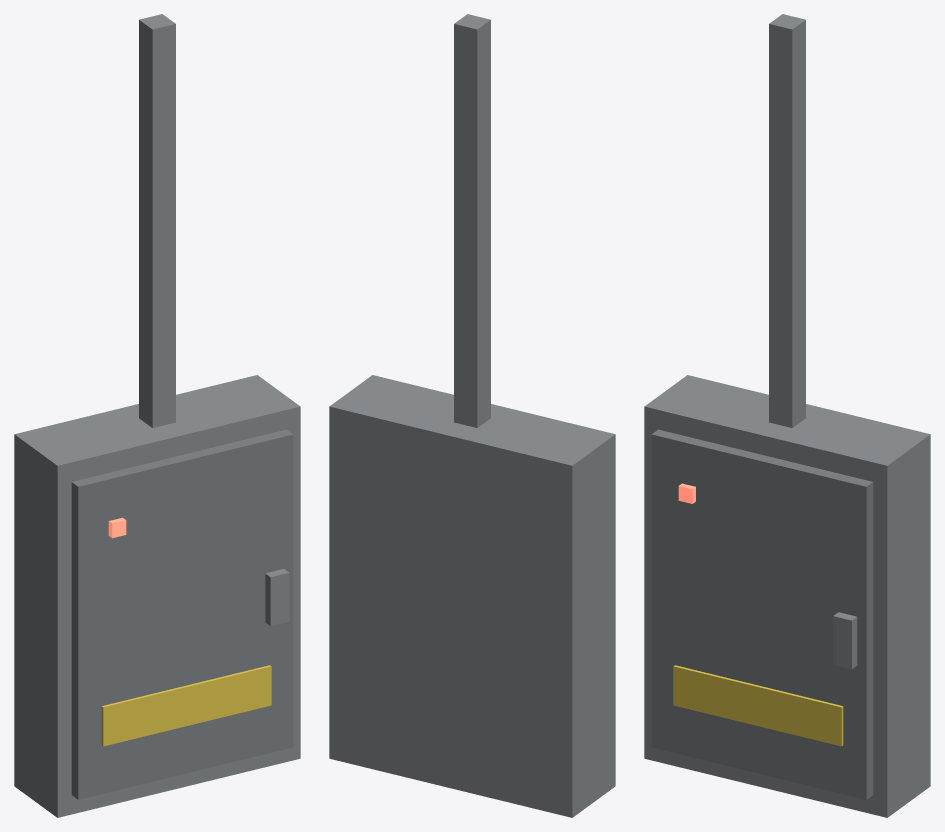
Rendered from breaker_box.glb.
The picture shows the model from 3 angles, left to right: view 1: azimuth 30°, elevation 25°; view 2: azimuth 150°, elevation 25°; view 3: azimuth 330°, elevation 25°; orthographic projection.
Parts seen in each view (by area): view 1: Door, Housing, ConduitTop, WarnStripe, Latch; view 2: Housing, ConduitTop; view 3: Door, Housing, ConduitTop, WarnStripe, Latch.
Part boxes in pixels (x1,y1,x2,y2): Door: (71, 429, 293, 799); Housing: (14, 375, 300, 817); ConduitTop: (139, 14, 175, 427); WarnStripe: (101, 665, 271, 746); Latch: (265, 569, 289, 625); Housing: (329, 375, 615, 817); ConduitTop: (454, 14, 490, 427); Door: (651, 429, 873, 799); Housing: (644, 375, 930, 817); ConduitTop: (769, 14, 805, 427); WarnStripe: (673, 665, 843, 746); Latch: (833, 612, 857, 669).
Bounding box in the file's own units: 0.52 × 1.54 × 0.205.
